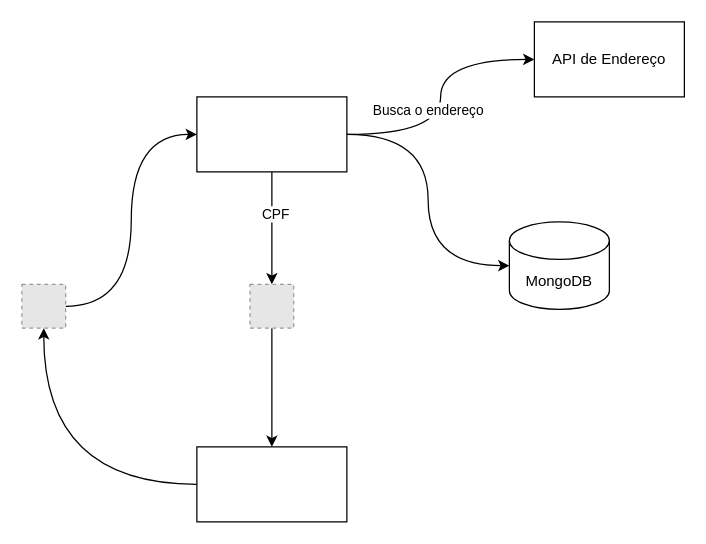
Image size: 706x544. Some labels were removed from this diagram. Grey dashed boxes stand in for pictures. The centre of each missing label's shape, as x and y in pixels:
API de Cliente: point 271,134
API de validação de CPF: point 271,484
